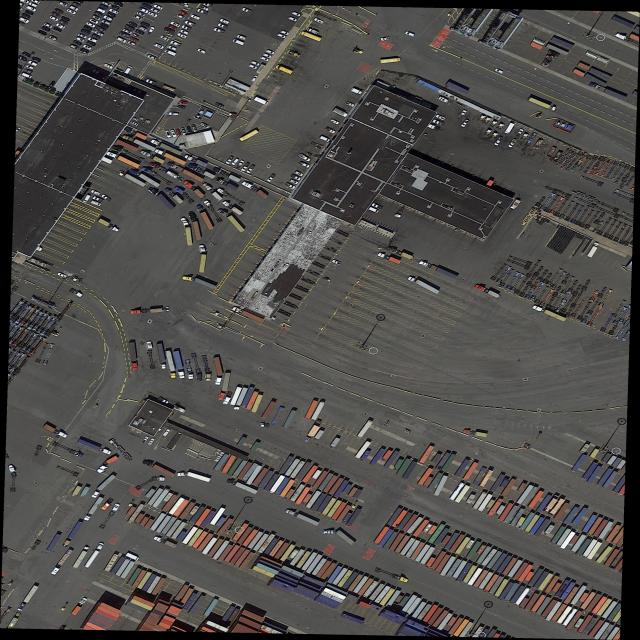large-vehicle: (320, 523, 359, 548), (417, 259, 460, 281), (165, 161, 206, 184), (147, 160, 186, 184), (215, 206, 246, 235), (587, 82, 629, 102), (146, 185, 177, 212), (405, 274, 442, 296), (89, 473, 118, 500), (530, 303, 569, 323), (49, 547, 75, 577), (129, 473, 168, 493), (229, 304, 266, 325), (283, 508, 321, 528), (179, 273, 219, 292), (141, 458, 177, 479), (15, 583, 40, 613), (140, 165, 174, 187), (105, 150, 142, 170), (120, 133, 157, 153), (107, 437, 135, 463), (76, 438, 114, 457), (128, 168, 162, 189), (174, 468, 213, 486), (61, 520, 85, 549), (83, 540, 106, 570), (148, 138, 184, 157), (372, 566, 410, 584), (216, 187, 248, 208), (240, 180, 271, 201), (224, 478, 260, 496), (154, 148, 188, 167), (82, 495, 105, 523), (91, 454, 121, 475), (111, 145, 146, 163), (116, 169, 149, 188), (98, 503, 121, 530), (186, 162, 217, 181), (194, 203, 215, 231), (51, 441, 85, 458), (211, 166, 243, 184), (384, 245, 416, 262), (71, 544, 91, 570), (526, 96, 558, 112), (472, 283, 502, 300), (182, 179, 206, 200), (203, 200, 224, 224), (42, 422, 69, 440), (216, 372, 232, 402), (200, 182, 224, 202), (178, 216, 193, 247), (187, 210, 202, 241), (220, 199, 245, 217), (189, 352, 204, 382), (96, 217, 122, 234), (214, 176, 240, 193), (70, 595, 90, 617), (138, 150, 167, 165), (182, 153, 209, 169), (172, 350, 186, 380), (375, 251, 403, 266), (163, 186, 185, 205), (173, 186, 195, 205), (195, 245, 209, 274), (151, 535, 178, 550), (212, 357, 225, 387), (584, 50, 610, 65), (123, 126, 149, 141), (164, 350, 177, 379), (129, 306, 170, 315), (200, 354, 213, 382), (6, 464, 19, 492), (145, 341, 157, 370), (237, 128, 260, 143), (127, 341, 138, 371), (155, 343, 167, 370), (311, 400, 326, 421), (299, 30, 323, 43), (462, 428, 489, 439), (585, 241, 601, 259), (273, 64, 295, 75), (184, 359, 195, 379), (332, 107, 349, 118), (68, 287, 84, 298), (124, 552, 141, 562), (504, 122, 517, 135), (379, 57, 402, 64), (253, 96, 269, 106), (297, 153, 312, 162), (510, 199, 522, 210), (436, 95, 450, 104), (427, 124, 441, 132), (306, 27, 320, 35), (350, 87, 363, 95), (232, 38, 245, 46), (367, 206, 380, 214), (164, 49, 177, 57), (319, 135, 331, 143), (20, 72, 33, 79), (124, 65, 133, 75), (313, 17, 325, 24), (82, 194, 91, 203), (236, 34, 247, 41)
small-vehicle: (99, 496, 116, 511), (239, 161, 251, 172), (156, 396, 170, 405), (507, 138, 518, 149), (493, 135, 504, 146), (161, 428, 172, 438), (458, 109, 468, 120), (245, 164, 256, 174), (224, 155, 235, 165), (265, 173, 276, 183), (100, 194, 112, 203), (284, 182, 296, 191), (137, 6, 150, 14), (95, 25, 108, 33), (118, 31, 131, 39), (298, 161, 311, 169), (290, 10, 303, 18), (515, 128, 525, 138), (235, 159, 245, 169), (147, 10, 159, 18), (55, 22, 67, 30), (87, 36, 99, 44), (184, 20, 196, 28), (331, 258, 343, 266), (371, 202, 383, 210), (199, 122, 211, 130), (153, 42, 165, 50), (115, 36, 127, 44), (124, 24, 136, 32), (164, 27, 176, 35), (289, 173, 301, 181), (329, 118, 341, 126), (287, 15, 299, 23), (212, 27, 225, 34), (196, 8, 209, 15), (89, 200, 102, 207), (432, 119, 445, 126), (460, 119, 470, 128), (230, 157, 240, 166), (85, 21, 96, 29), (103, 14, 114, 22), (101, 18, 112, 26), (94, 29, 105, 37), (18, 54, 29, 62), (138, 25, 149, 33), (289, 178, 300, 186), (259, 55, 270, 63), (108, 8, 120, 15), (25, 5, 37, 12), (241, 7, 253, 14), (141, 3, 153, 10), (92, 196, 104, 203), (435, 114, 447, 121), (145, 78, 157, 85), (170, 40, 182, 47), (159, 35, 171, 42), (129, 36, 141, 43), (122, 28, 134, 35), (324, 127, 336, 134), (344, 101, 356, 108), (264, 49, 276, 56), (147, 437, 156, 446), (47, 80, 56, 89), (147, 26, 155, 36), (153, 4, 164, 11), (150, 7, 161, 14), (48, 15, 59, 22), (50, 11, 61, 18), (71, 2, 82, 9), (68, 5, 79, 12), (19, 17, 30, 24), (21, 12, 32, 19), (24, 9, 35, 16), (96, 7, 107, 14), (58, 1, 69, 8), (66, 8, 77, 15), (219, 18, 230, 25), (79, 47, 90, 54), (82, 43, 93, 50), (72, 39, 83, 46), (87, 40, 98, 47), (91, 33, 102, 40), (80, 29, 91, 36), (190, 14, 201, 21), (57, 272, 68, 279), (170, 21, 181, 28), (127, 21, 138, 28), (168, 24, 179, 31), (250, 60, 261, 67), (214, 102, 225, 109), (276, 32, 287, 39), (217, 23, 229, 29), (141, 436, 150, 444), (186, 125, 194, 134), (404, 31, 416, 37), (181, 25, 193, 31), (251, 74, 259, 83), (89, 17, 99, 24), (59, 19, 69, 26), (178, 10, 188, 17), (136, 10, 146, 17), (43, 22, 53, 29), (70, 44, 80, 51), (76, 36, 86, 43), (83, 24, 93, 31), (176, 13, 186, 20), (90, 189, 100, 196), (28, 60, 38, 67), (32, 56, 42, 63), (494, 67, 504, 74), (22, 51, 32, 58), (103, 63, 113, 70), (197, 48, 207, 55), (168, 45, 178, 52), (127, 39, 137, 46), (135, 29, 145, 36), (248, 63, 258, 70), (133, 14, 143, 21), (294, 170, 304, 177), (279, 29, 289, 36), (262, 52, 272, 59), (99, 23, 110, 29), (37, 30, 48, 36), (77, 33, 88, 39), (147, 54, 158, 60), (177, 33, 188, 39), (140, 22, 151, 28), (170, 129, 178, 137), (92, 14, 101, 21), (191, 124, 198, 133), (92, 68, 101, 75), (180, 29, 189, 36), (107, 12, 117, 18), (102, 1, 112, 7), (111, 4, 121, 10), (99, 4, 109, 10), (61, 16, 71, 22), (54, 8, 64, 14), (94, 11, 104, 17), (199, 5, 209, 11), (42, 26, 52, 32), (25, 64, 35, 70), (168, 111, 180, 116), (165, 130, 172, 138), (175, 128, 182, 136), (180, 127, 187, 135), (48, 35, 57, 41), (24, 68, 33, 74), (29, 2, 38, 8), (53, 27, 62, 32), (176, 105, 187, 109), (178, 101, 189, 105), (380, 37, 390, 41)
